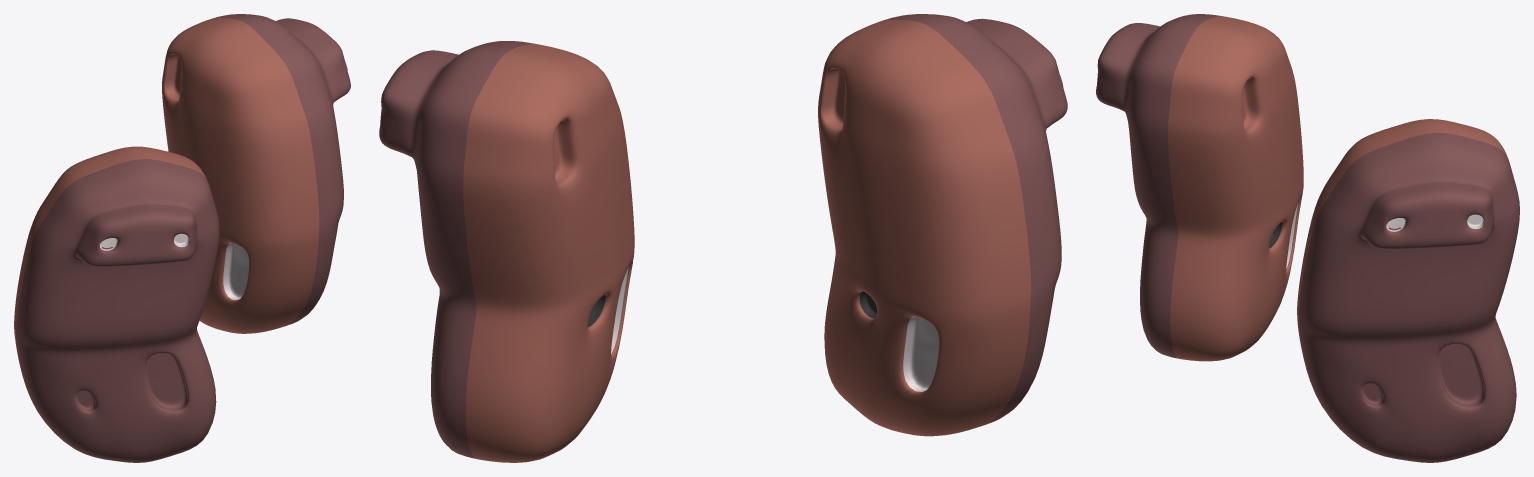
The model's file is airpod5.glb.
3 renders of one model, left to right at view 1: azimuth 30°, elevation 25°; view 2: azimuth 150°, elevation 25°; view 3: azimuth 270°, elevation 25°, orthographic. The views are drawn at different scales.
Visible parts, largest first — view 1: airpod5-left, airpod5-right; view 2: airpod5-left, airpod5-right; view 3: airpod5-right, airpod5-left.
Part boxes in pixels (<box>): airpod5-left: <box>14,146,219,462</box>; airpod5-right: <box>162,14,350,333</box>; airpod5-left: <box>818,14,1067,436</box>; airpod5-right: <box>379,41,634,462</box>; airpod5-right: <box>1297,119,1519,462</box>; airpod5-left: <box>1096,14,1303,361</box>.
Size of the model in its own units: 0.0457 by 0.0328 by 0.0384.
